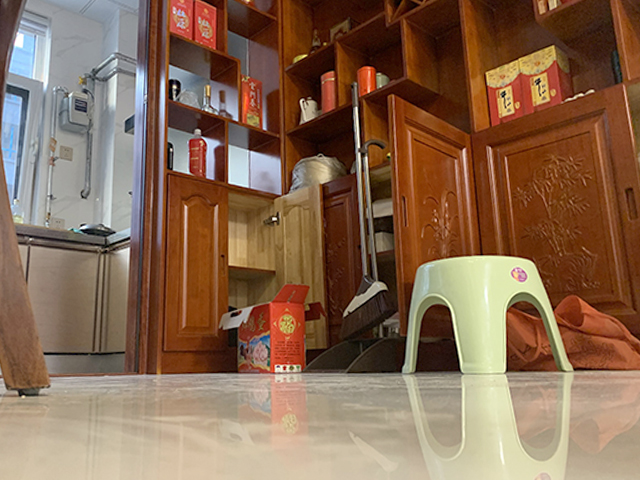cabinet: (459, 82, 640, 349), (124, 176, 295, 374), (16, 222, 131, 373)
stool: (401, 254, 573, 375)
